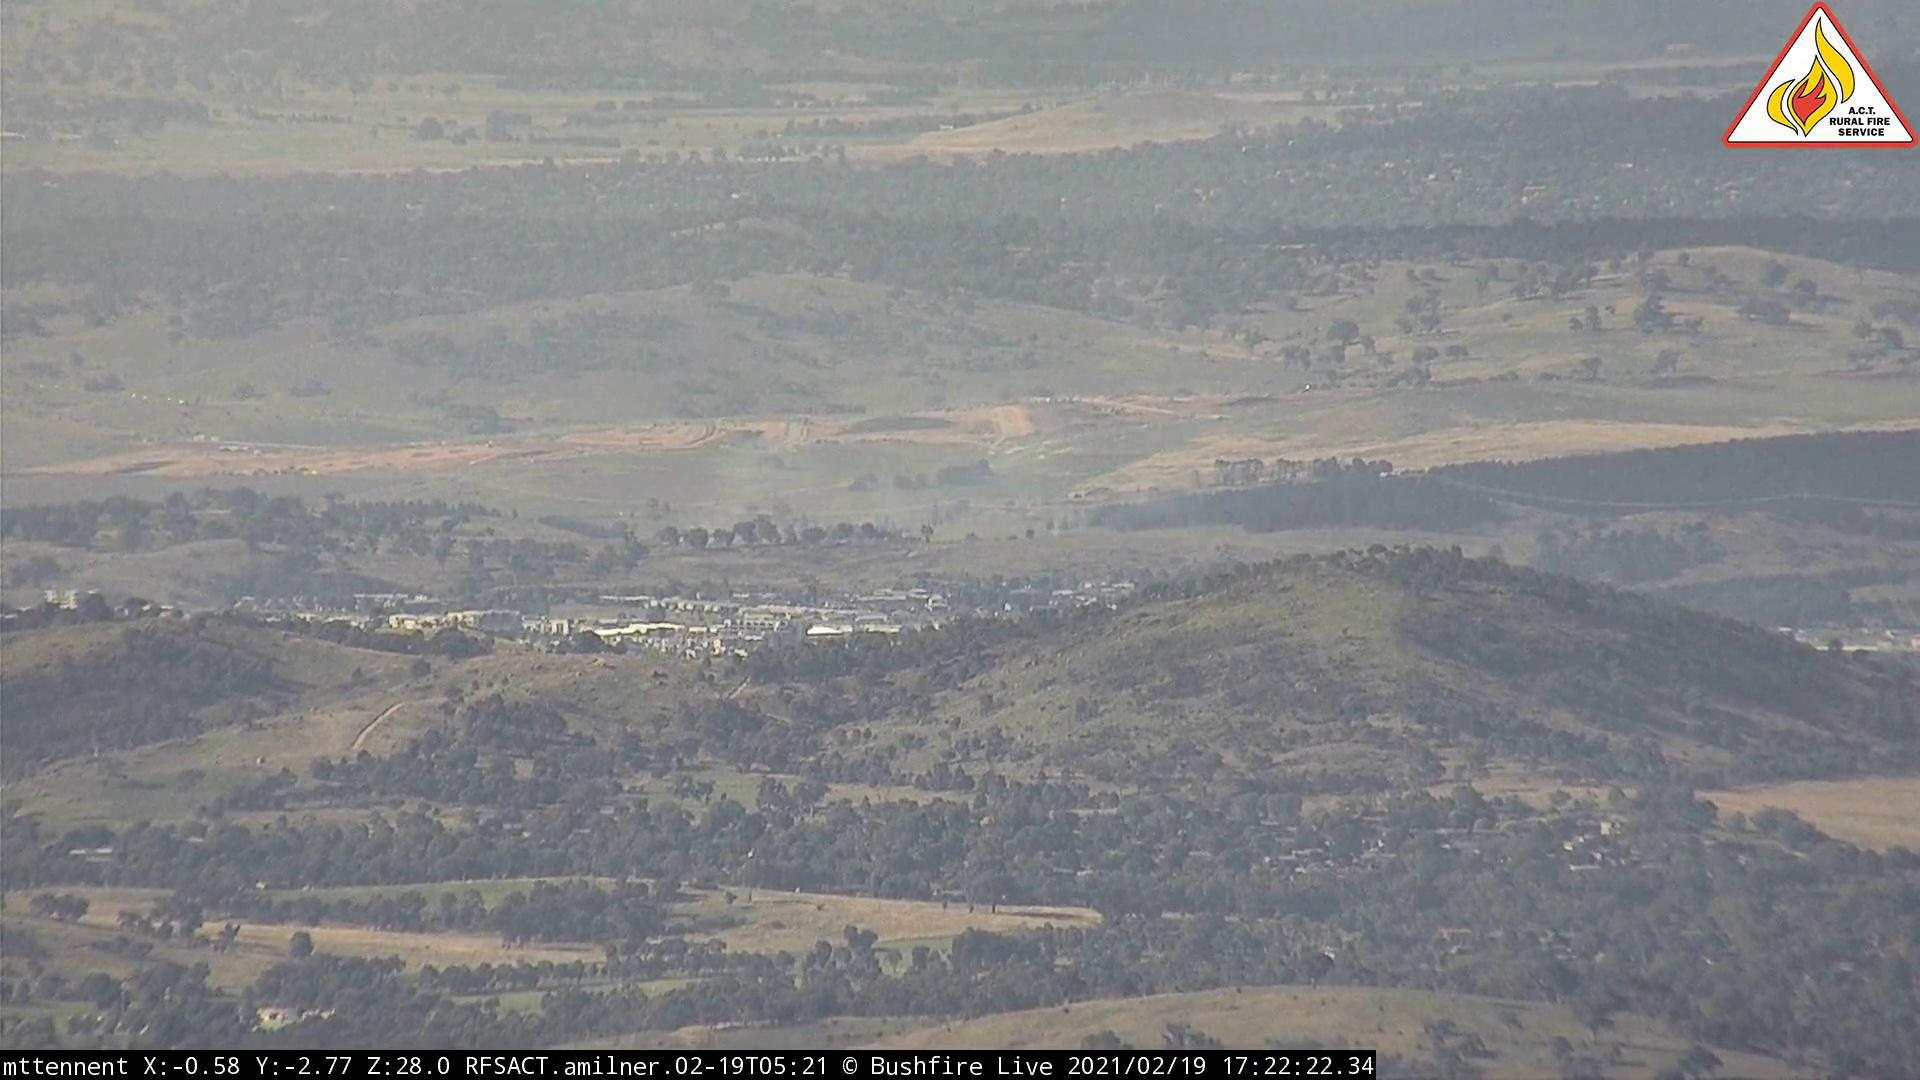Smoke: (680, 429, 882, 555)
